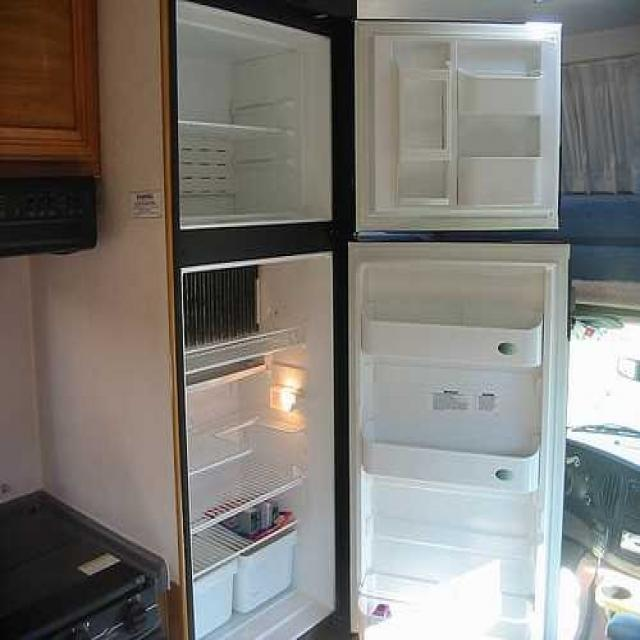refrigerator: (173, 1, 547, 637)
